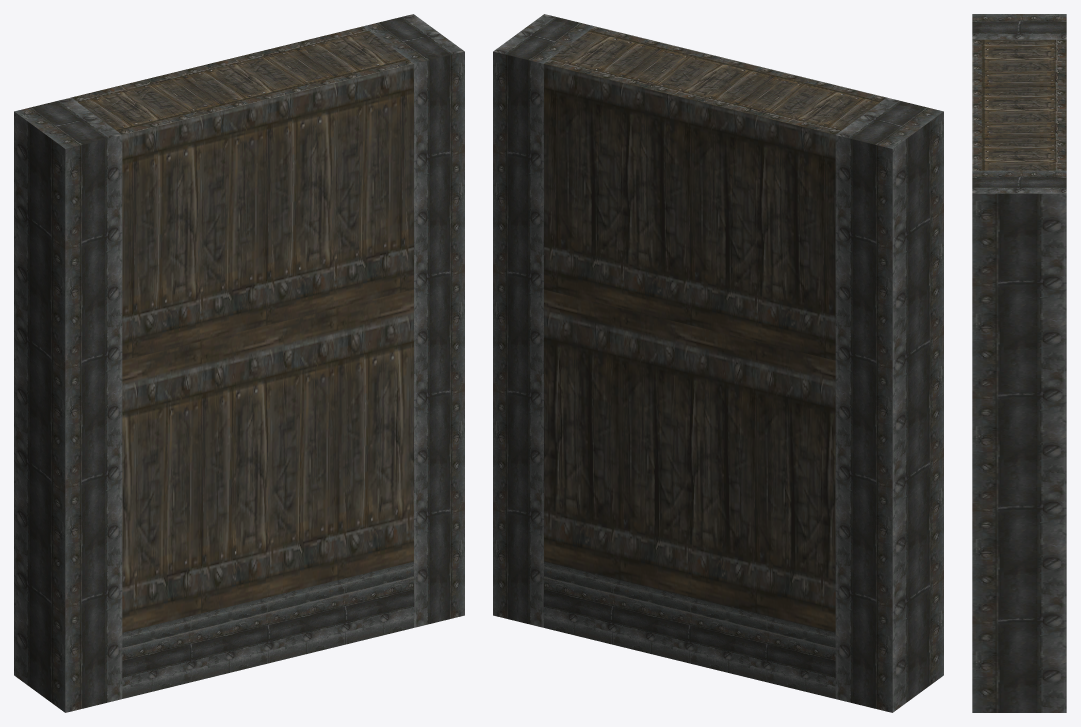
File: Gate.fbx
3 renders of one model, left to right at view 1: azimuth 30°, elevation 25°; view 2: azimuth 150°, elevation 25°; view 3: azimuth 270°, elevation 25°, orthographic. The views are drawn at different scales.
Parts seen in each view (by area): view 1: 0_0; view 2: 0_0; view 3: 0_0.
Boxes of the visible parts, left/top/right/bottom form: 0_0: left=14, top=14, right=464, bottom=712; 0_0: left=493, top=14, right=943, bottom=712; 0_0: left=972, top=14, right=1066, bottom=712.
Bounding box in the file's own units: 5.07 × 6.84 × 1.13.
1 material, 1 textured.
